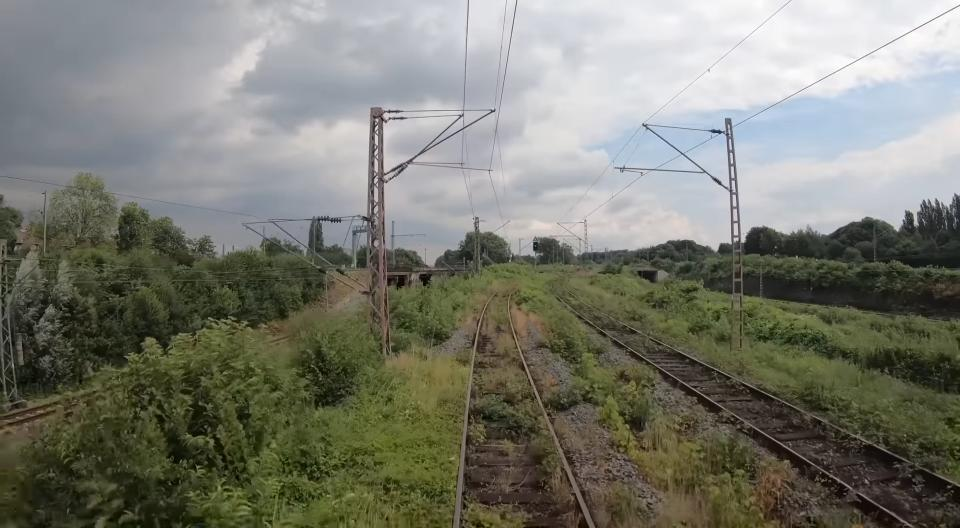Plant: (567, 277, 960, 483), (530, 298, 864, 528), (293, 345, 466, 528), (468, 331, 580, 528), (420, 265, 535, 364), (530, 360, 602, 454), (544, 267, 630, 331), (511, 273, 554, 350), (590, 481, 650, 528), (482, 439, 520, 494), (603, 329, 675, 357), (462, 499, 531, 528)
